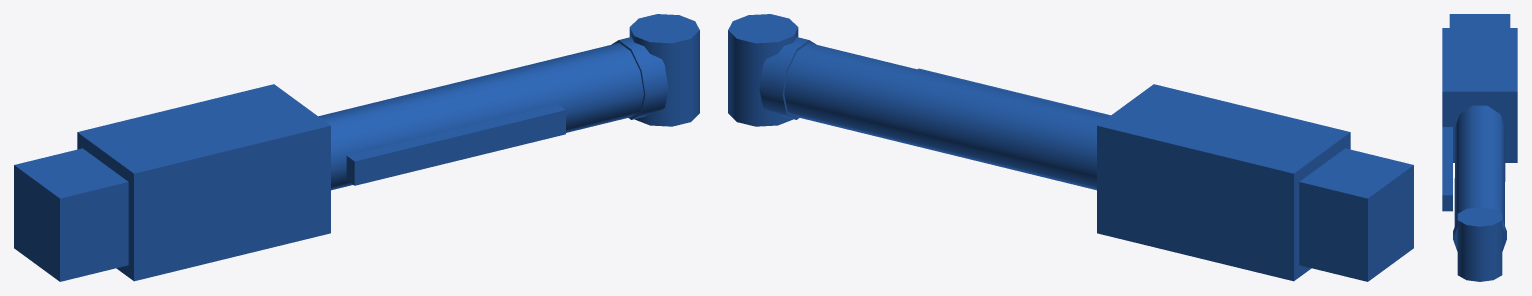
File: arm_loader_fore.obj
3 views of the same model, side by side, from view 1: azimuth 30°, elevation 25°; view 2: azimuth 150°, elevation 25°; view 3: azimuth 270°, elevation 25° (orthographic). The views are drawn at different scales.
Visible parts, largest first — view 1: machine_blue; view 2: machine_blue; view 3: machine_blue.
Part boxes in pixels (x1=…): machine_blue: x1=14, y1=14, x2=699, y2=281; machine_blue: x1=728, y1=14, x2=1413, y2=281; machine_blue: x1=1442, y1=14, x2=1517, y2=281.
Bounding box in the file's own units: 1.19 × 0.186 × 0.178.
